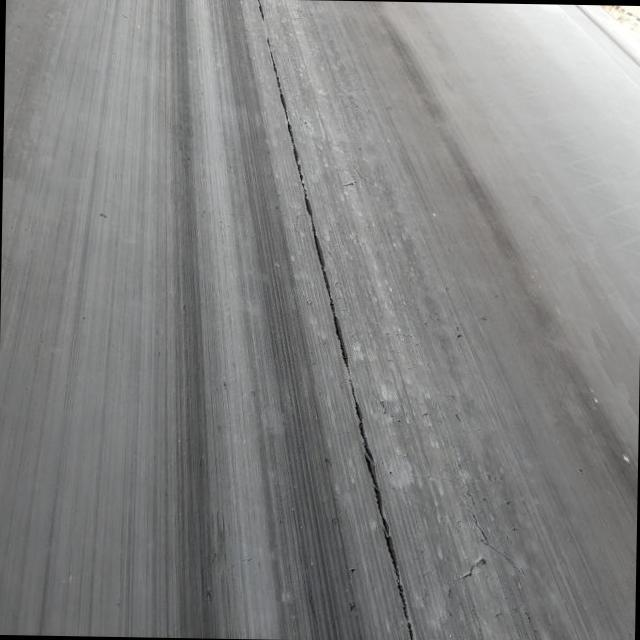Puncture: (463, 572, 472, 578), (480, 558, 487, 564)
Tear: (244, 0, 434, 640), (468, 509, 518, 566)
